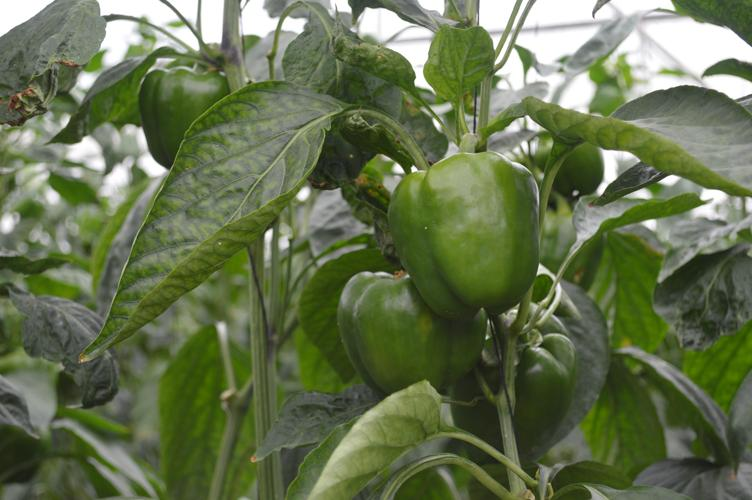BellPepper: (392, 155, 544, 316), (445, 304, 579, 452), (338, 274, 485, 386), (140, 71, 226, 165), (536, 133, 603, 195)
